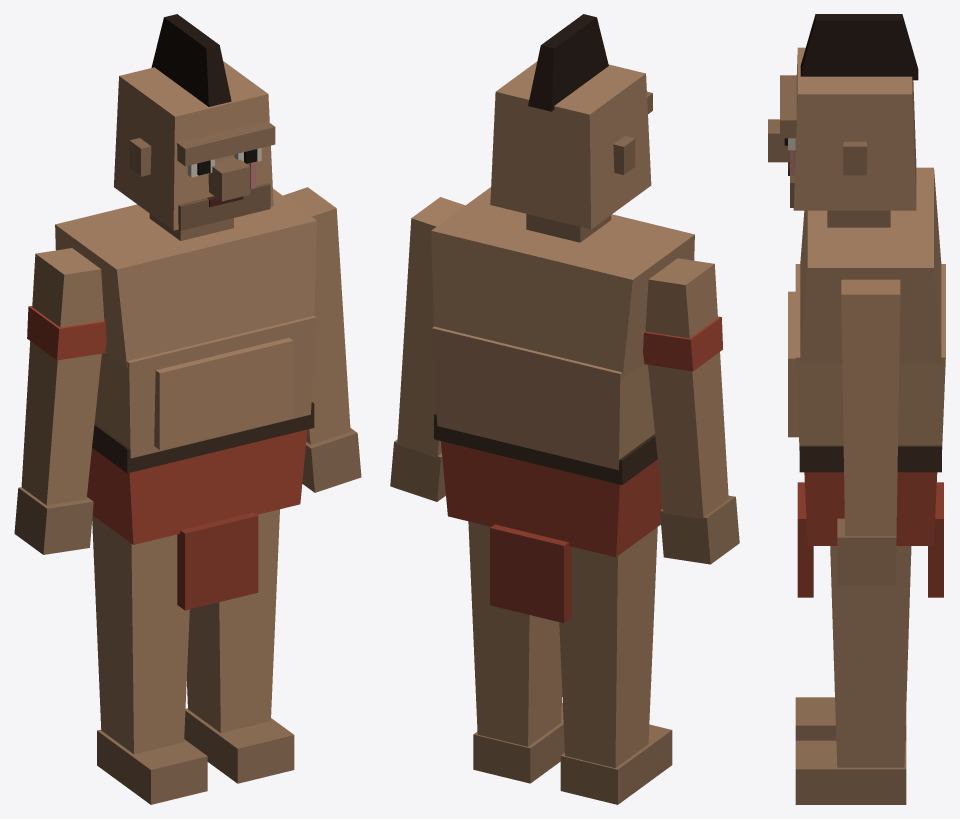
Rendered from fighter_A1.glb.
The picture shows the model from 3 angles, left to right: view 1: azimuth 30°, elevation 25°; view 2: azimuth 150°, elevation 25°; view 3: azimuth 270°, elevation 25°; orthographic projection. The views are drawn at different scales.
Parts seen in each view (by area): view 1: torso, head, hips, leg_R, arm_R, leg_L, arm_L; view 2: torso, head, hips, leg_R, arm_R, leg_L, arm_L; view 3: torso, head, leg_L, arm_L, hips, leg_R.
Boxes of the visible parts, x1=… form: torso: x1=55, y1=188, x2=316, y2=458; head: x1=114, y1=14, x2=275, y2=240; hips: x1=87, y1=402, x2=314, y2=610; leg_R: x1=92, y1=515, x2=207, y2=804; arm_R: x1=14, y1=248, x2=106, y2=554; leg_L: x1=184, y1=509, x2=294, y2=783; arm_L: x1=283, y1=187, x2=361, y2=492; torso: x1=431, y1=187, x2=694, y2=470; head: x1=490, y1=14, x2=652, y2=242; hips: x1=434, y1=413, x2=662, y2=623; leg_R: x1=559, y1=527, x2=672, y2=804; arm_R: x1=643, y1=258, x2=739, y2=564; leg_L: x1=468, y1=521, x2=564, y2=783; arm_L: x1=390, y1=197, x2=465, y2=501; torso: x1=788, y1=167, x2=945, y2=450; head: x1=768, y1=14, x2=918, y2=227; leg_L: x1=795, y1=546, x2=911, y2=804; arm_L: x1=837, y1=279, x2=900, y2=585; hips: x1=797, y1=445, x2=943, y2=597; leg_R: x1=795, y1=697, x2=906, y2=740.
Bounding box in the file's own units: 0.9528 × 2.1 × 0.45.
